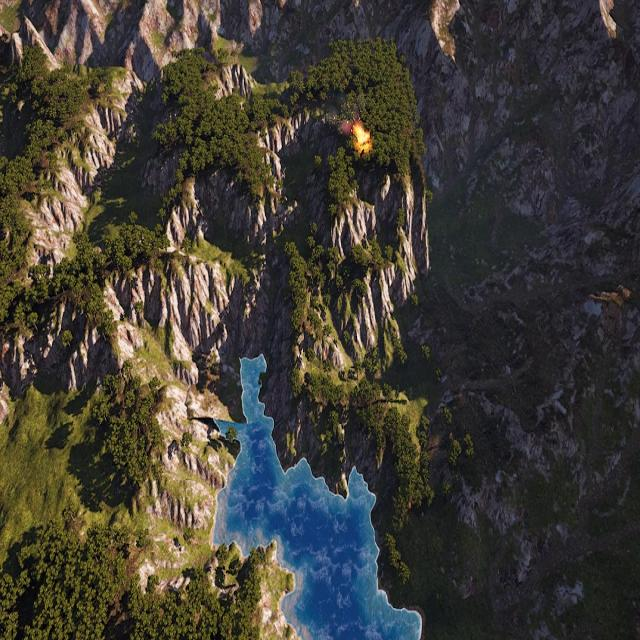fire: (353, 126, 370, 150)
